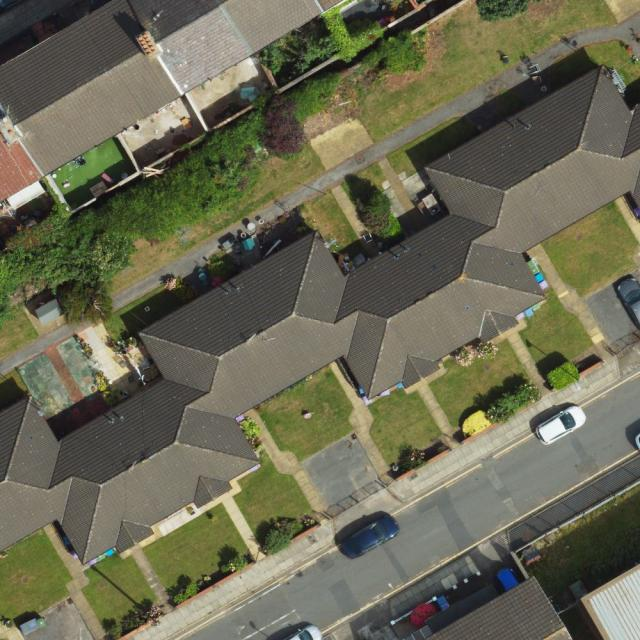roof: (0, 57, 640, 563), (0, 0, 354, 197), (422, 574, 568, 640), (583, 563, 640, 638)
